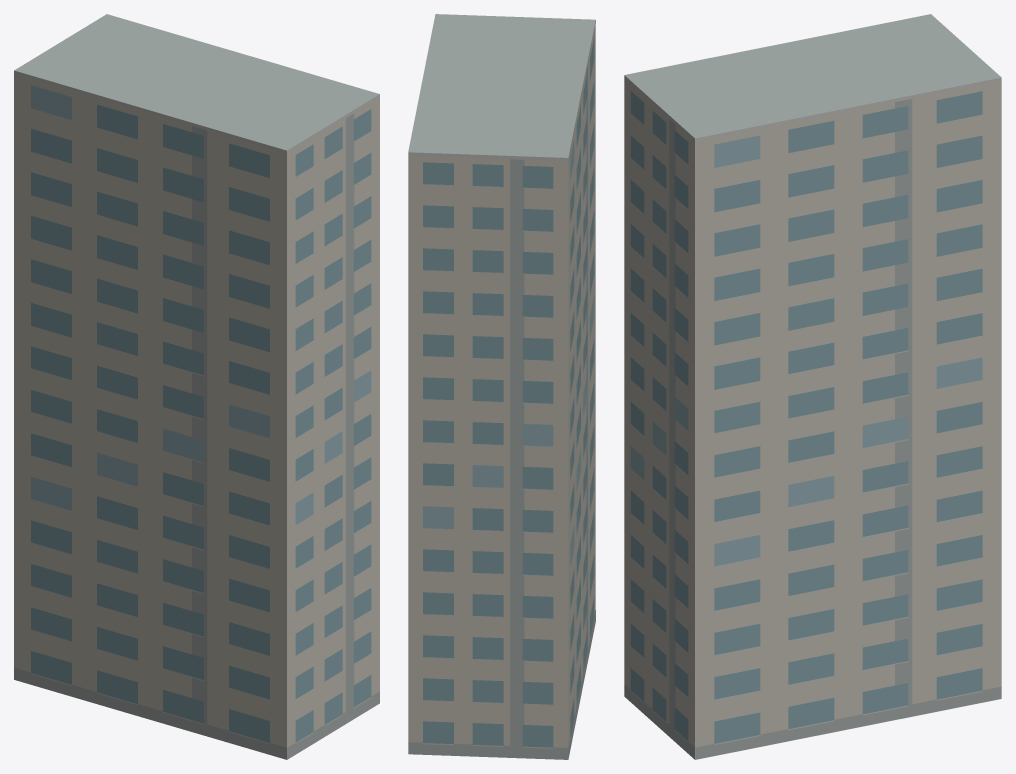
File: residential-a2988f0b-23ec-4ac3-a532-bd0c37f177c3.glb
3 renders of one model, left to right at view 1: azimuth 30°, elevation 25°; view 2: azimuth 150°, elevation 25°; view 3: azimuth 270°, elevation 25°, orthographic. The views are drawn at different scales.
Visible parts, largest first — view 1: residential-a2988f0b-23ec-4ac3-a532-bd0c37f177c3.tmp; view 2: residential-a2988f0b-23ec-4ac3-a532-bd0c37f177c3.tmp; view 3: residential-a2988f0b-23ec-4ac3-a532-bd0c37f177c3.tmp.
Part boxes in pixels (bbox=[...]): residential-a2988f0b-23ec-4ac3-a532-bd0c37f177c3.tmp: bbox=[14, 14, 379, 759]; residential-a2988f0b-23ec-4ac3-a532-bd0c37f177c3.tmp: bbox=[408, 14, 595, 759]; residential-a2988f0b-23ec-4ac3-a532-bd0c37f177c3.tmp: bbox=[624, 14, 1001, 759].
Size of the model in its own units: 18.49 by 43 by 23.68.
